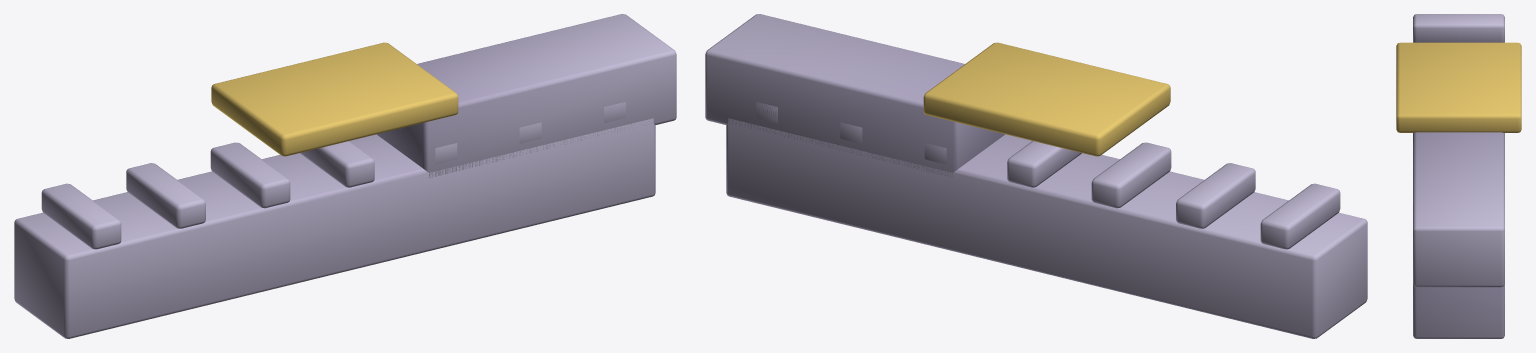
3 views of the same model, side by side, from view 1: azimuth 30°, elevation 25°; view 2: azimuth 150°, elevation 25°; view 3: azimuth 270°, elevation 25° (orthographic). The views are drawn at different scales.
Parts seen in each view (by area): view 1: landmark_724ab8ac; view 2: landmark_724ab8ac; view 3: landmark_724ab8ac.
Boxes of the visible parts, x1,y1,x2,y2 form: landmark_724ab8ac: (14,14,676,338); landmark_724ab8ac: (705,14,1367,338); landmark_724ab8ac: (1396,14,1521,338).
Bounding box in the file's own units: 14.5 × 3.65 × 3.
